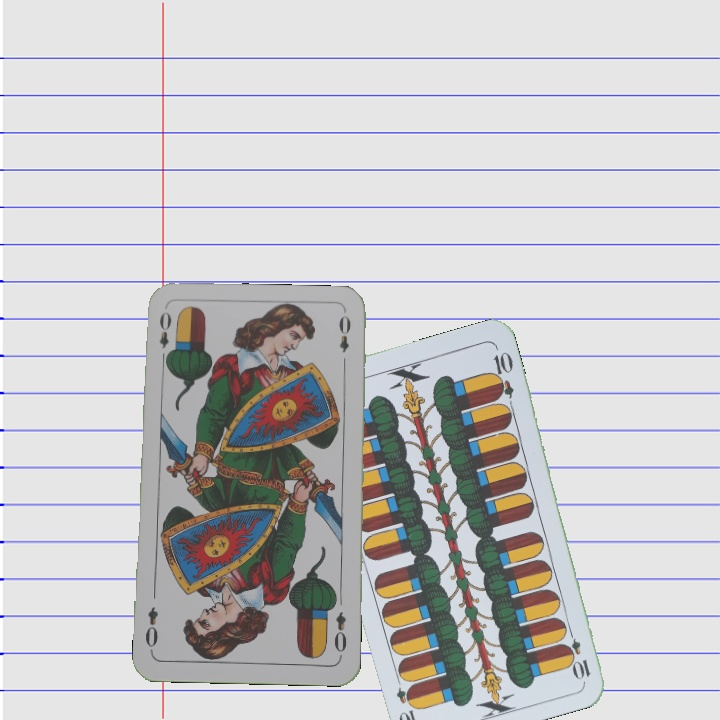E10: (562, 624, 594, 682)
EO: (155, 307, 174, 365), (330, 608, 350, 660)
